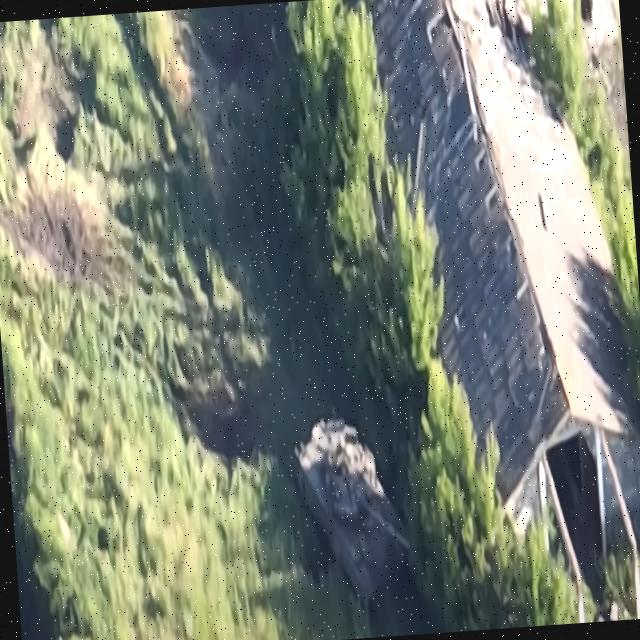MBT: (287, 396, 420, 621)
